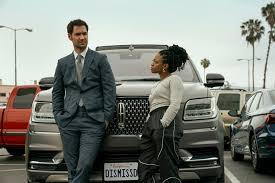lincoln: (115, 101, 126, 128)
